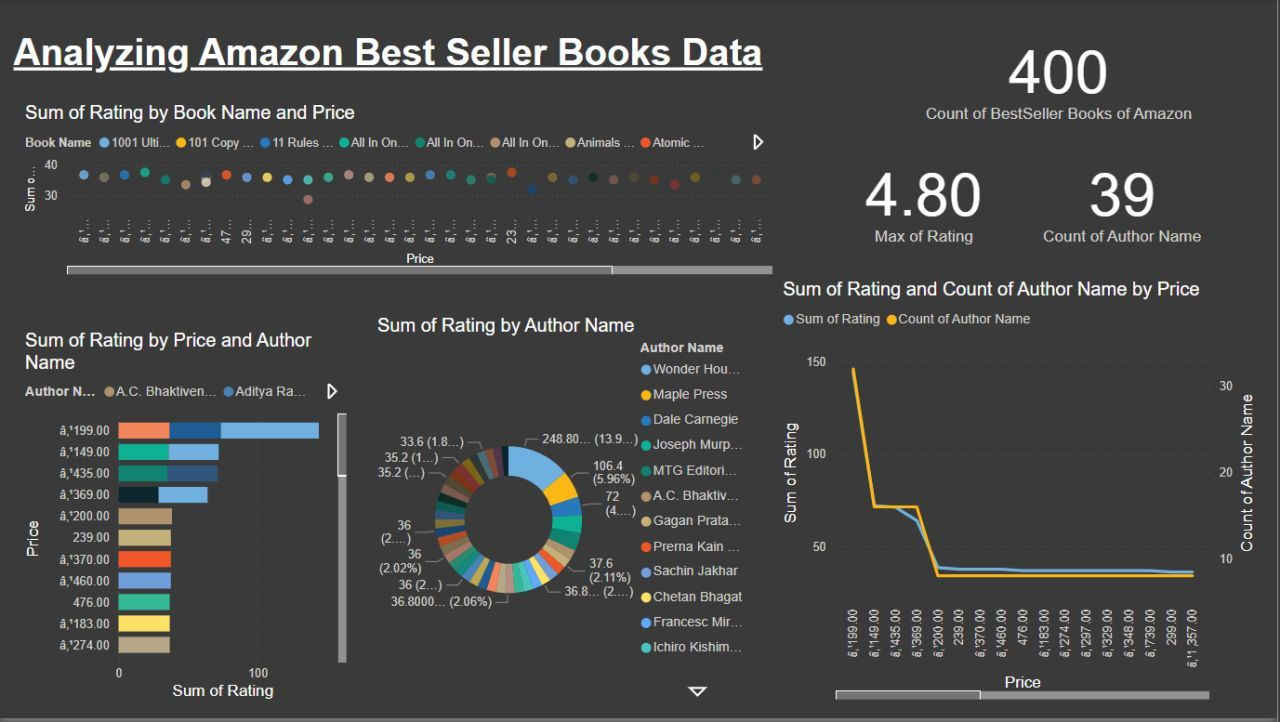

This screenshot's page, from the dashboard's own definition file:
{"tool":"powerbi","page":{"name":"Page 1","canvas":[1280,720],"ordinal":0},"visuals":[{"type":"lineChart","fields":{"Category":["BestSeller Books of Amazon.Price"],"Y":["BestSeller Books of Amazon.Rating"],"Y2":["BestSeller Books of Amazon.Author Name"]},"box":[780.2,280.2,483.7,425.6],"z":0},{"type":"scatterChart","fields":{"Y":["BestSeller Books of Amazon.Rating"],"X":["BestSeller Books of Amazon.Price"],"Series":["BestSeller Books of Amazon.Book Name"]},"box":[22.1,103.5,758.1,176.7],"z":1000},{"type":"barChart","fields":{"Category":["BestSeller Books of Amazon.Price"],"Y":["BestSeller Books of Amazon.Rating"],"Series":["BestSeller Books of Amazon.Author Name"]},"box":[22.1,331.4,331.4,374.4],"z":2000},{"type":"donutChart","fields":{"Y":["BestSeller Books of Amazon.Rating"],"Category":["BestSeller Books of Amazon.Author Name"]},"box":[374.4,316.3,386,389.5],"z":3000},{"type":"card","fields":{"Values":["BestSeller Books of Amazon.Rating"]},"box":[844.2,134.9,165.1,130.2],"z":4000},{"type":"card","fields":{"Values":["BestSeller Books of Amazon"]},"box":[874.4,12.8,374.4,129.1],"z":5000},{"type":"card","fields":{"Values":["BestSeller Books of Amazon.Author Name"]},"box":[986,144.2,277.9,111.6],"z":6000},{"type":"textbox","box":[10.5,26.7,879.1,76.7],"z":7000}]}

Visuals, with their boxes in screenshot pixels (x1, y1, x2, y2), scaled from the page's 1280x720 canvas onto the 1280x722 screenshot:
lineChart - BestSeller Books of Amazon.Price x BestSeller Books of Amazon.Rating: region(780, 281, 1264, 708)
scatterChart - BestSeller Books of Amazon.Rating x BestSeller Books of Amazon.Price: region(22, 104, 780, 281)
barChart - BestSeller Books of Amazon.Price x BestSeller Books of Amazon.Rating: region(22, 332, 354, 708)
donutChart - BestSeller Books of Amazon.Rating x BestSeller Books of Amazon.Author Name: region(374, 317, 760, 708)
card - BestSeller Books of Amazon.Rating: region(844, 135, 1009, 266)
card - BestSeller Books of Amazon: region(874, 13, 1249, 142)
card - BestSeller Books of Amazon.Author Name: region(986, 145, 1264, 257)
textbox: region(10, 27, 890, 104)
